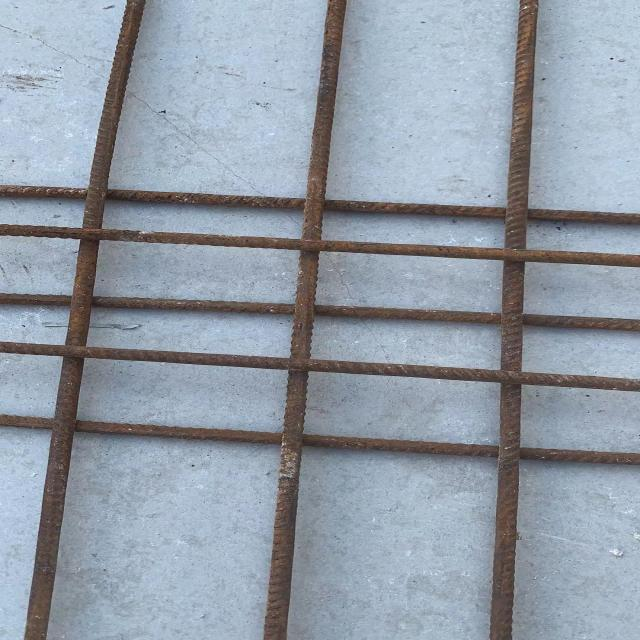ribbed bar: (17, 0, 146, 639), (256, 0, 347, 639), (0, 413, 639, 468), (0, 341, 639, 392), (487, 0, 538, 639), (0, 223, 639, 269), (0, 183, 639, 227), (0, 292, 639, 333)
